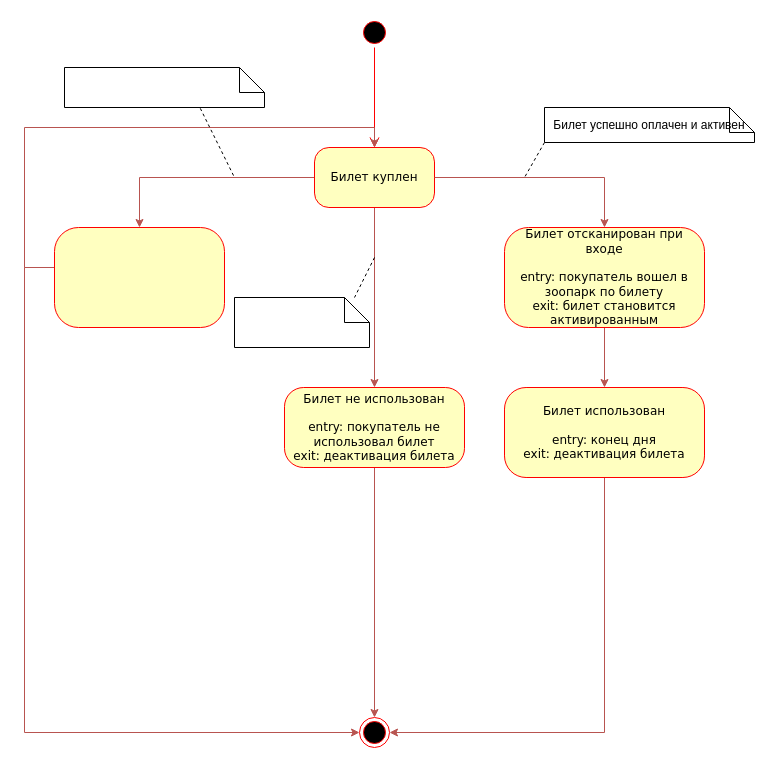
The diagram is 772 pixels wide and 765 high, and some of its shapes have lost their labels. The centre of each missing label's shape, as x and y in pixels:
"- Билет отменен покупателем - Билет отменен зоопарком" goes at (x=164, y=87).
"Билет отменен entry: покупатель отменил покупку exit: возврат денег покупателю" goes at (x=139, y=277).
"Билет просрочен и не был использован" goes at (x=302, y=322).
